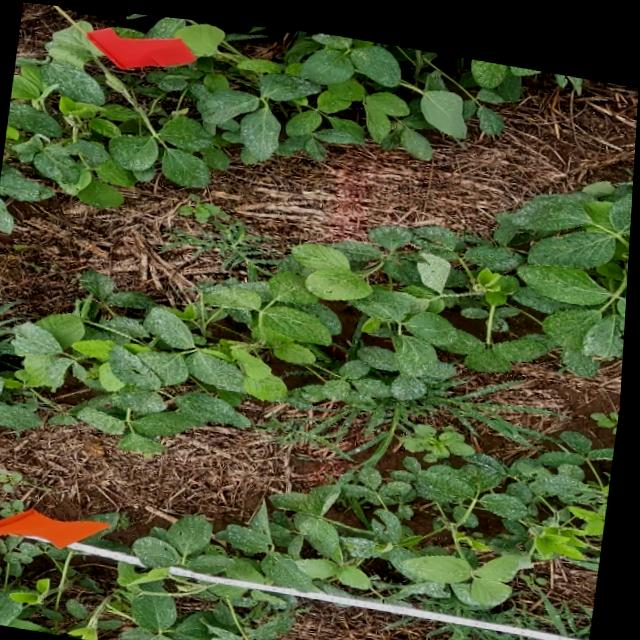caruru_weed: (0, 467, 36, 491), (594, 398, 623, 420), (4, 498, 29, 516)
grassy_weed: (284, 333, 560, 452), (165, 189, 281, 275), (493, 565, 599, 625), (432, 614, 595, 640), (257, 397, 317, 450)
soy_plant: (0, 167, 635, 449), (0, 418, 619, 640), (0, 11, 539, 229), (492, 627, 559, 640)
